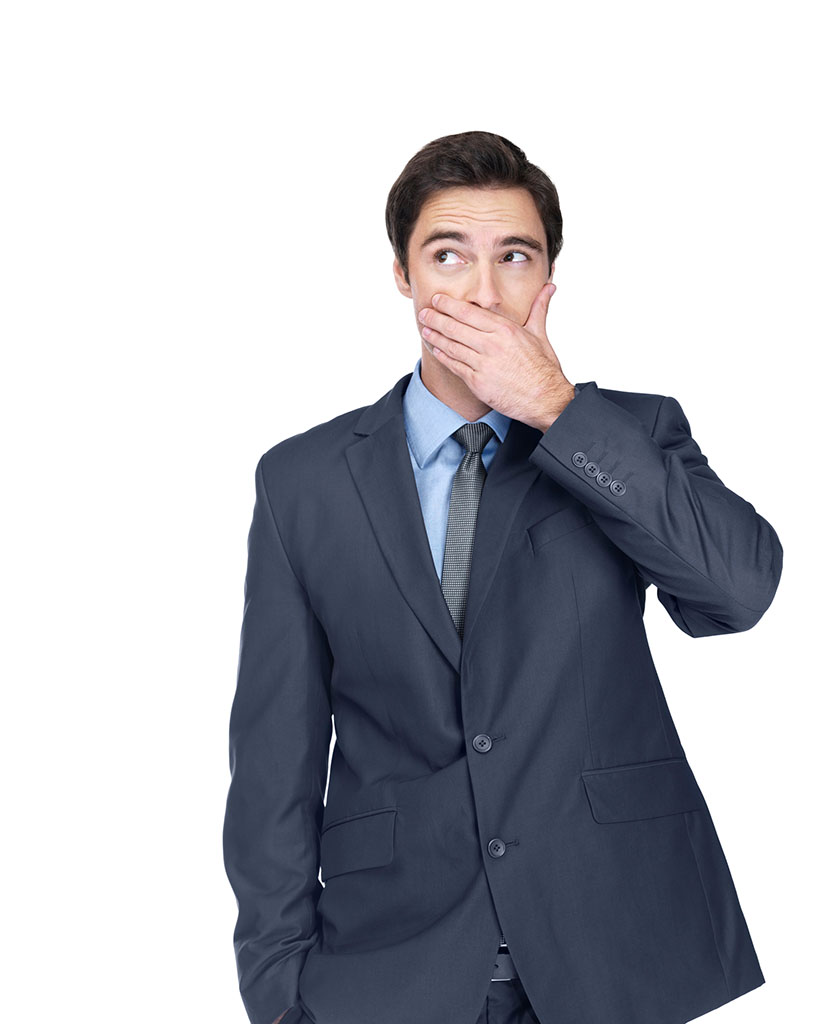face: (414, 175, 546, 383)
